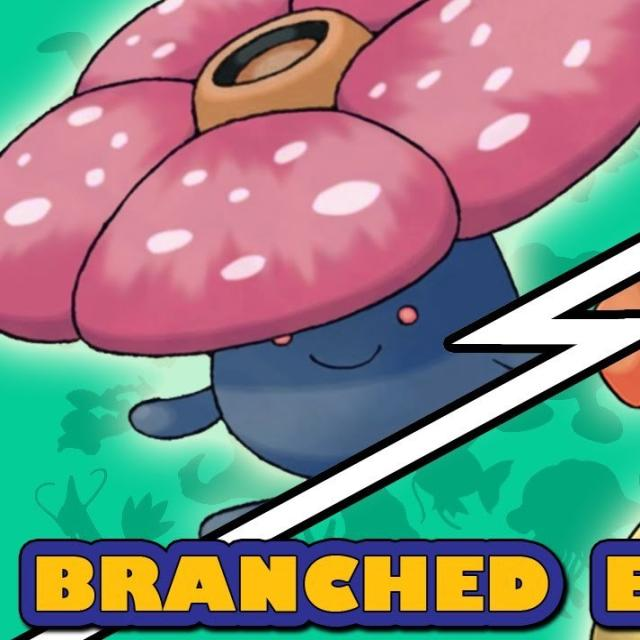Vileplume: (0, 0, 640, 466)
